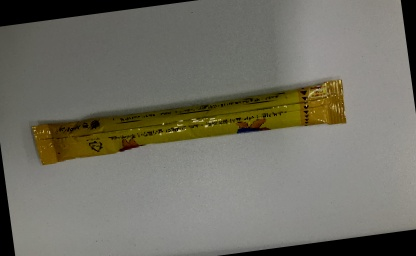jt: (29, 79, 352, 171)
